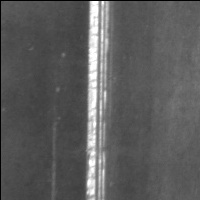scratches: (84, 1, 112, 200)
